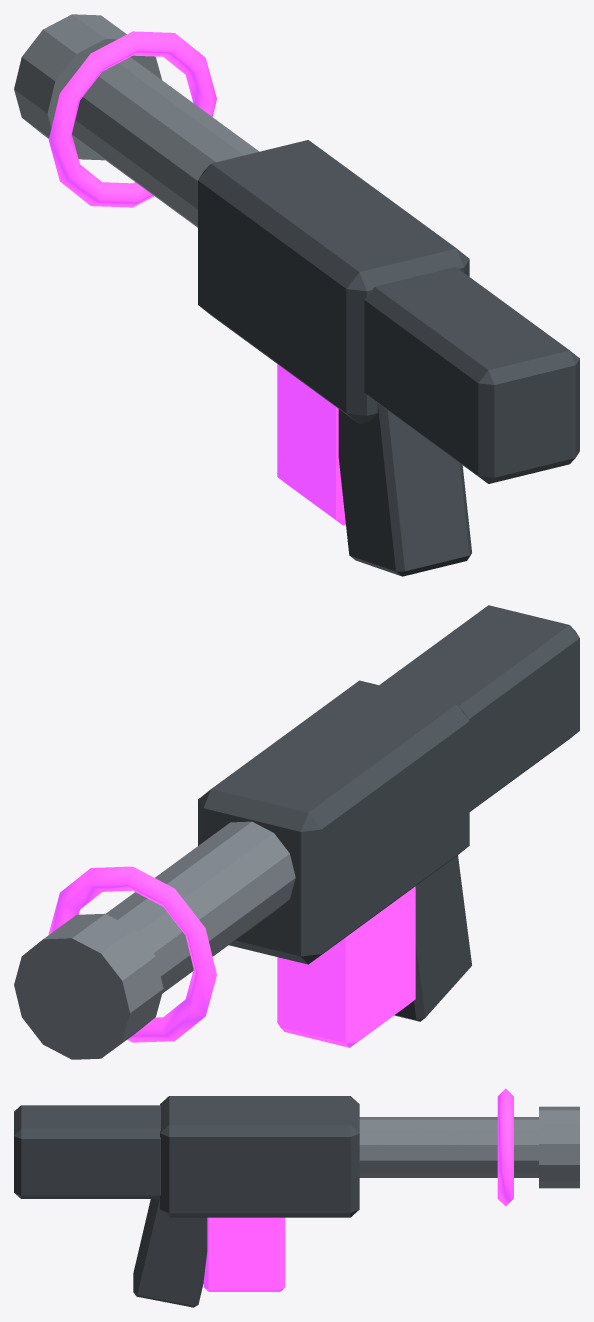
Rendered from WPN_PlasmaCannon_A_TP_v01.glb.
3 views of the same model, one above another, from view 1: azimuth 30°, elevation 25°; view 2: azimuth 150°, elevation 25°; view 3: azimuth 270°, elevation 25° (orthographic). The views are drawn at different scales.
Visible parts, largest first — view 1: MESH_Weapon, MESH_AcceleratorRing_A, MESH_EnergyCell; view 2: MESH_Weapon, MESH_EnergyCell, MESH_AcceleratorRing_A; view 3: MESH_Weapon, MESH_EnergyCell, MESH_AcceleratorRing_A.
Boxes of the visible parts, bbox=[...] form: MESH_Weapon: bbox=[14, 14, 579, 576]; MESH_AcceleratorRing_A: bbox=[48, 31, 216, 207]; MESH_EnergyCell: bbox=[277, 364, 345, 525]; MESH_Weapon: bbox=[14, 605, 579, 1059]; MESH_EnergyCell: bbox=[277, 886, 415, 1047]; MESH_AcceleratorRing_A: bbox=[48, 866, 216, 1042]; MESH_Weapon: bbox=[14, 1096, 579, 1307]; MESH_EnergyCell: bbox=[203, 1217, 285, 1291]; MESH_AcceleratorRing_A: bbox=[497, 1088, 513, 1206].
Size of the model in its own units: 0.232 by 0.4402 by 1.1.
